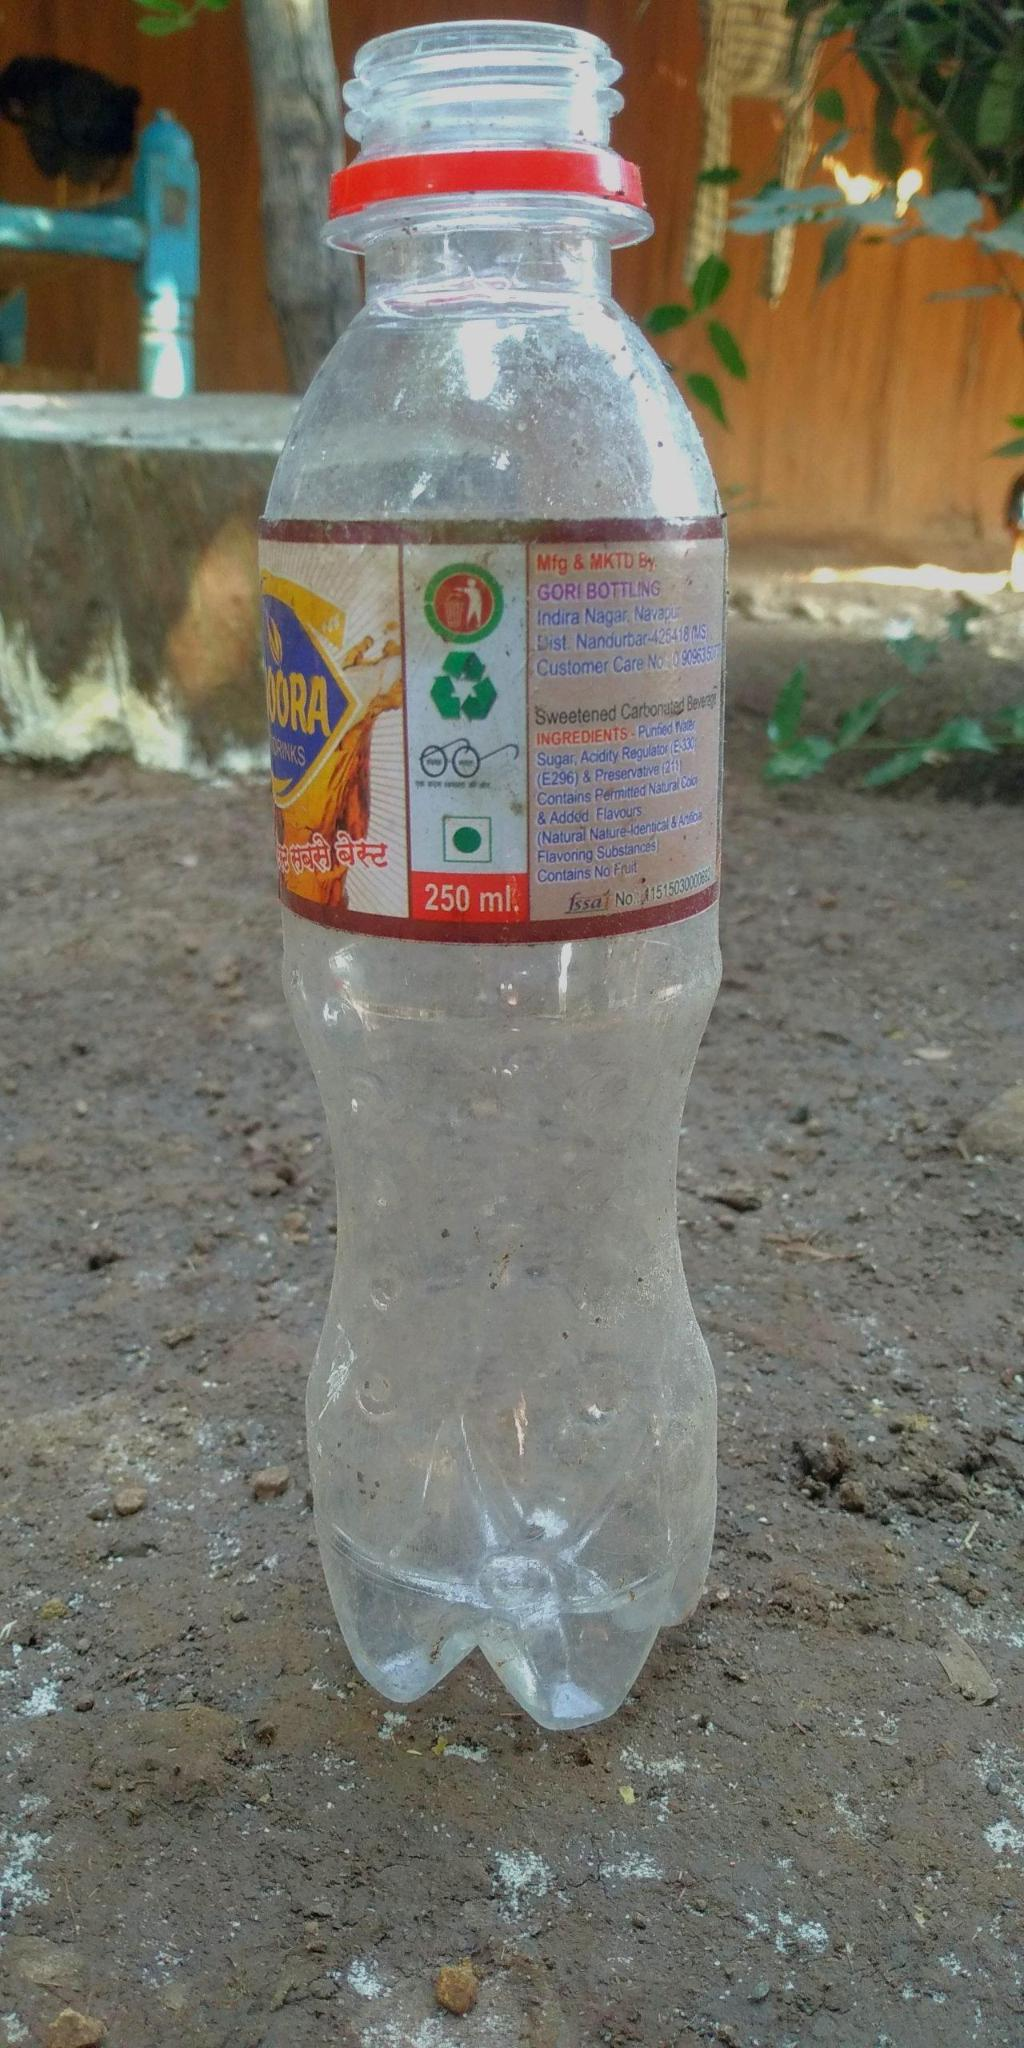bottle: (222, 0, 786, 1758)
